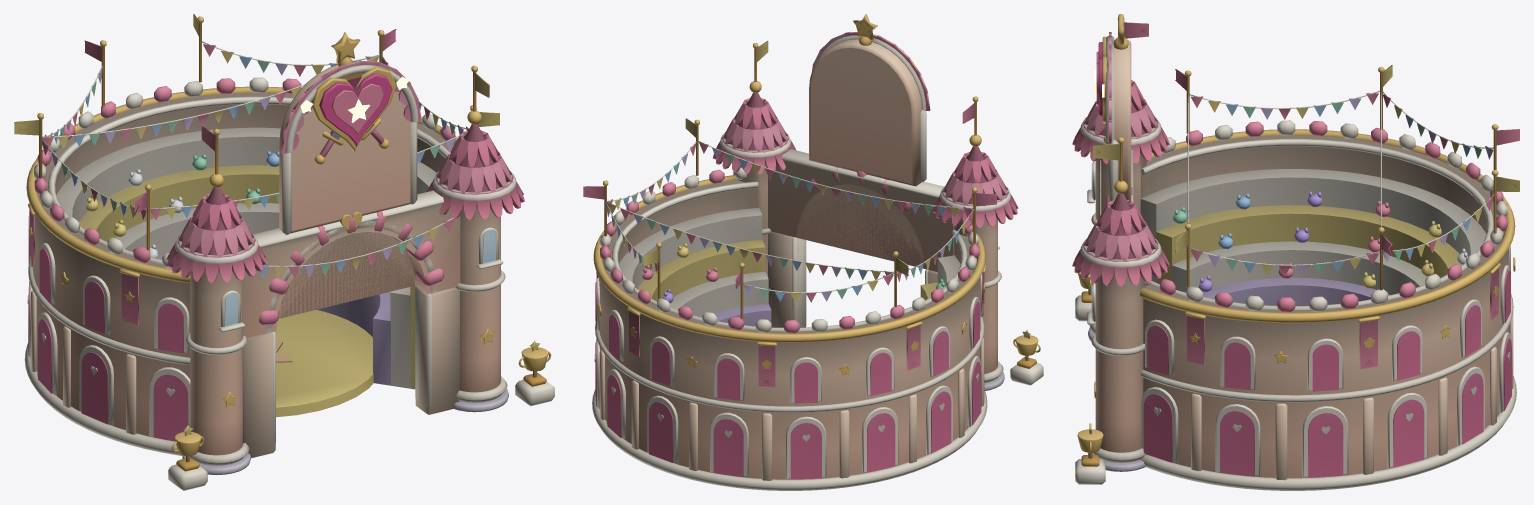
File: pvp-arena.glb
3 views of the same model, side by side, from view 1: azimuth 30°, elevation 25°; view 2: azimuth 150°, elevation 25°; view 3: azimuth 270°, elevation 25° (orthographic). The views are drawn at different scales.
Visible parts, largest first — view 1: PVP_ARENA__body; view 2: PVP_ARENA__body; view 3: PVP_ARENA__body.
Part boxes in pixels (<box>): PVP_ARENA__body: <box>14,14,554,490</box>; PVP_ARENA__body: <box>583,14,1043,490</box>; PVP_ARENA__body: <box>1072,14,1519,490</box>.
Bounding box in the file's own units: 2 × 1.89 × 2.
